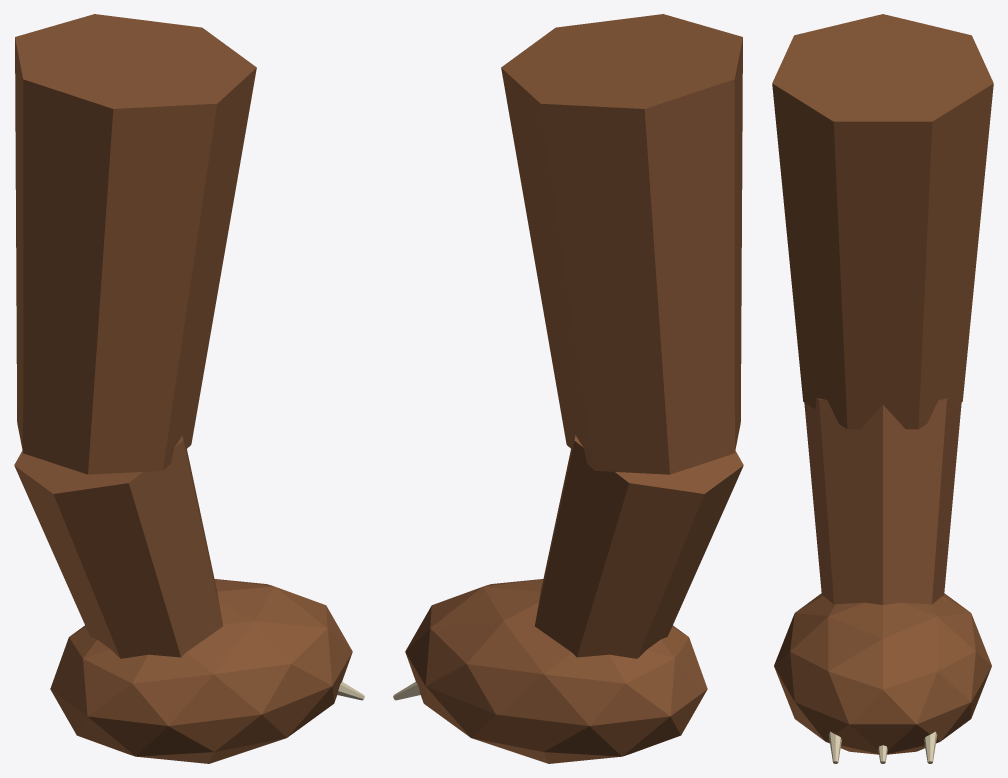
The model's file is SM_Bear_Leg.fbx.
The picture shows the model from 3 angles, left to right: view 1: azimuth 30°, elevation 25°; view 2: azimuth 150°, elevation 25°; view 3: azimuth 270°, elevation 25°; orthographic projection. The views are drawn at different scales.
Visible parts, largest first — view 1: SM_Bear_Leg; view 2: SM_Bear_Leg; view 3: SM_Bear_Leg.
Boxes of the visible parts, x1,y1,x2,y2 form: SM_Bear_Leg: (14, 14, 364, 763); SM_Bear_Leg: (393, 14, 743, 763); SM_Bear_Leg: (772, 14, 993, 763).
Bounding box in the file's own units: 36.12 × 78.07 × 24.37.
